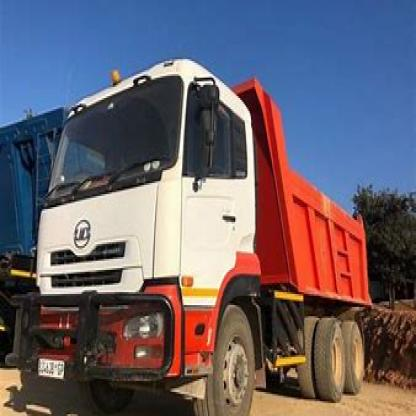dump_truck: (31, 48, 382, 414)
